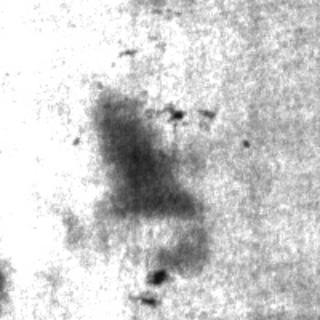patches: (95, 93, 197, 221)
